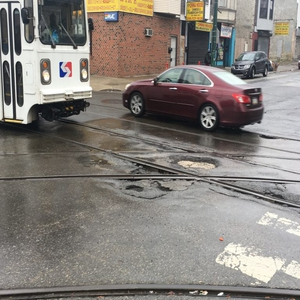pothole: (129, 160, 183, 202), (180, 157, 219, 173)
